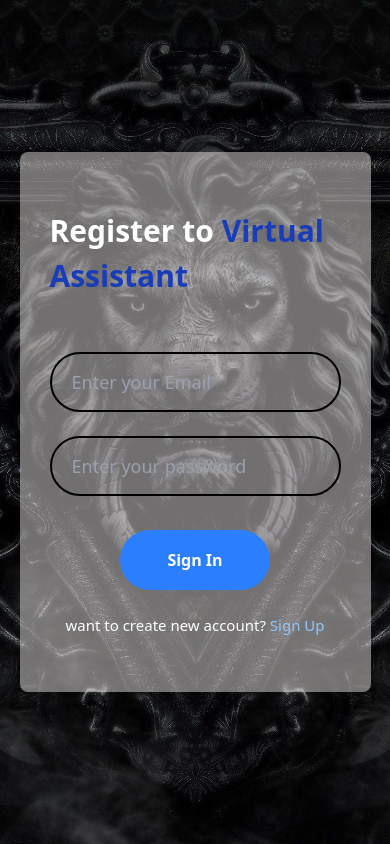
SignIn Component › shows backend error message
Type "wrong@example.com" into the field with placeholder "Enter your Email" at (195, 382), box [50, 352, 340, 412]
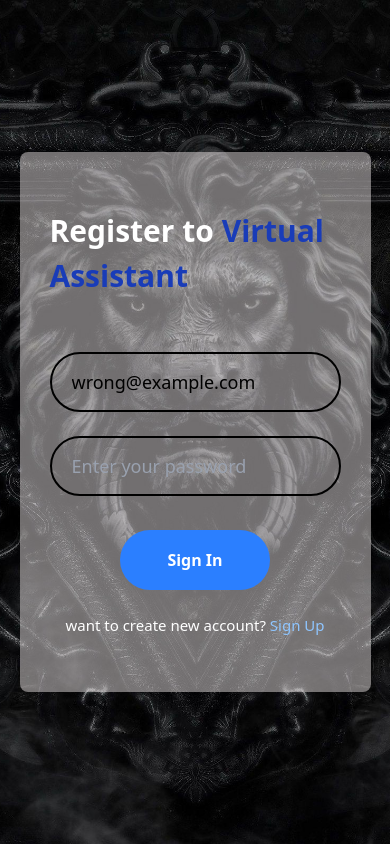
Type "wrongpassword" into the password field with placeholder "Enter your password" at (195, 466), box [52, 438, 338, 494]
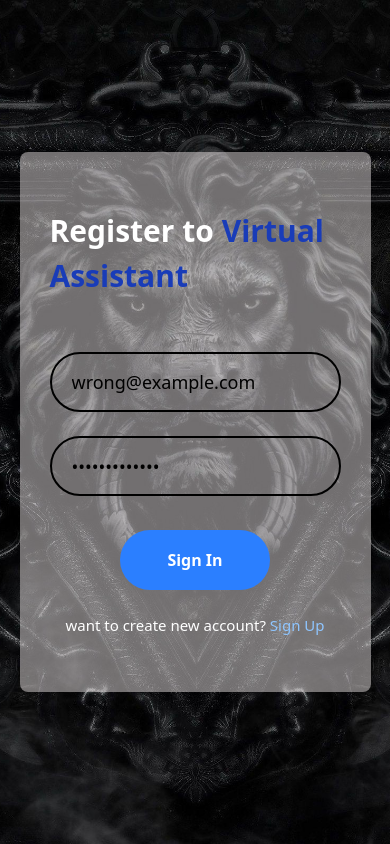
Click the button "Sign In" at (195, 560), box [120, 530, 270, 590]
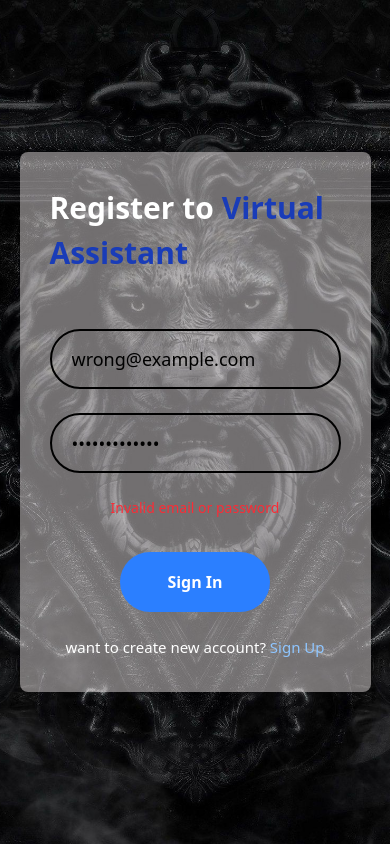
Expected: the text "Invalid email or password" is shown, [110, 497, 279, 518]
